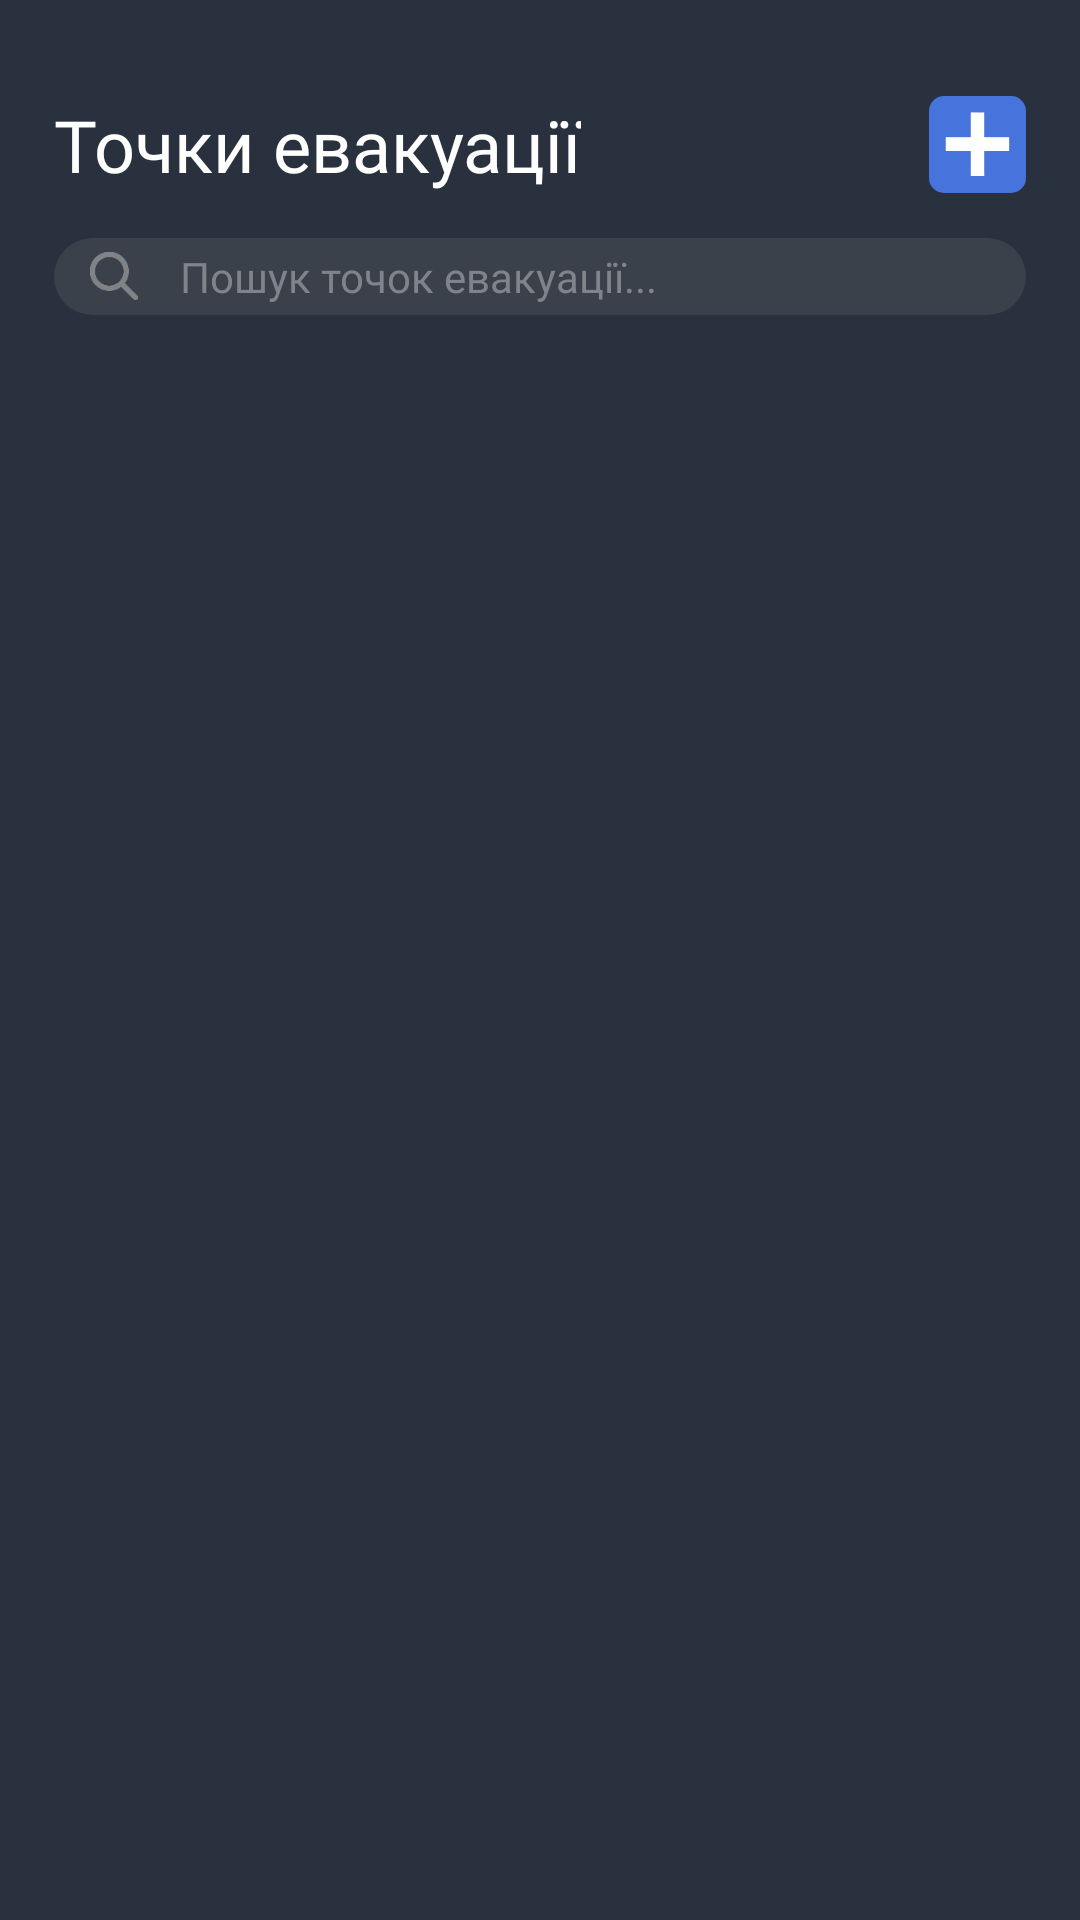

Screen size 1080x1920. Icon name, then its box in pixels as (x1, y1, x2, y2):
search: (90, 252, 138, 300)
